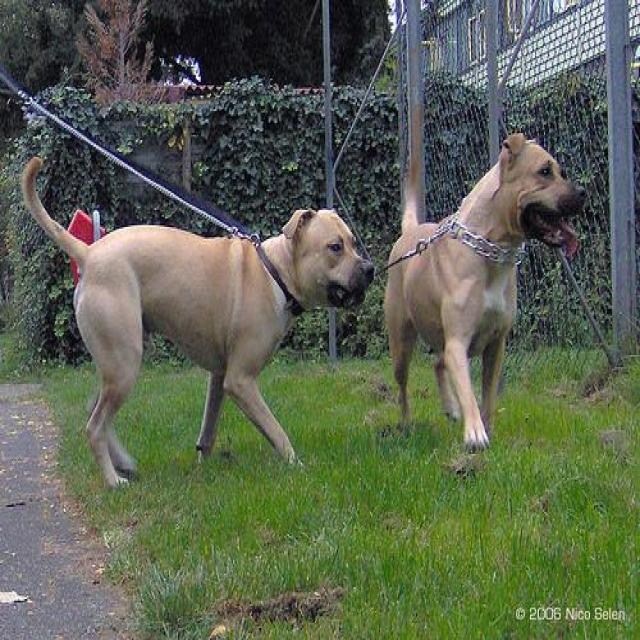staffordshire_bullterrier: (19, 149, 375, 493), (388, 130, 589, 454)
